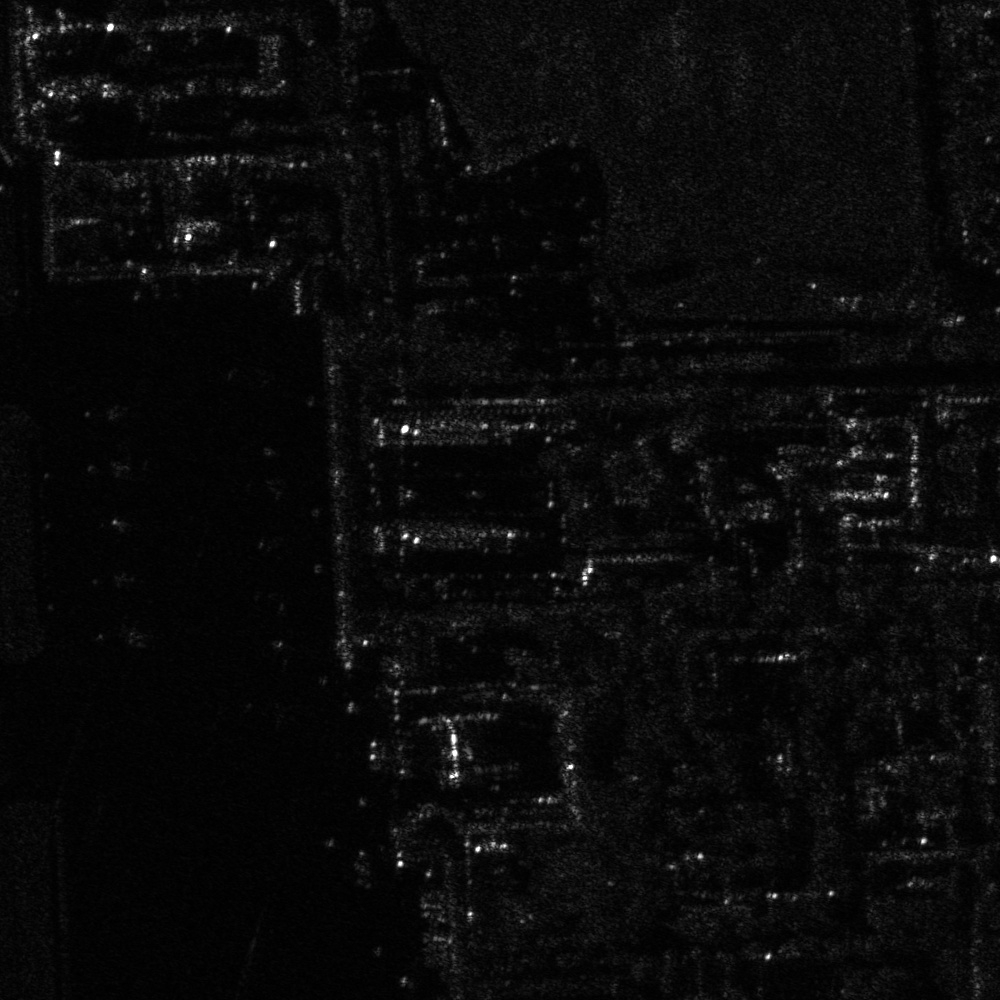ARJ21: (83, 449, 140, 486), (97, 504, 148, 541)
other: (85, 559, 145, 599), (91, 614, 154, 652), (82, 392, 136, 429)
